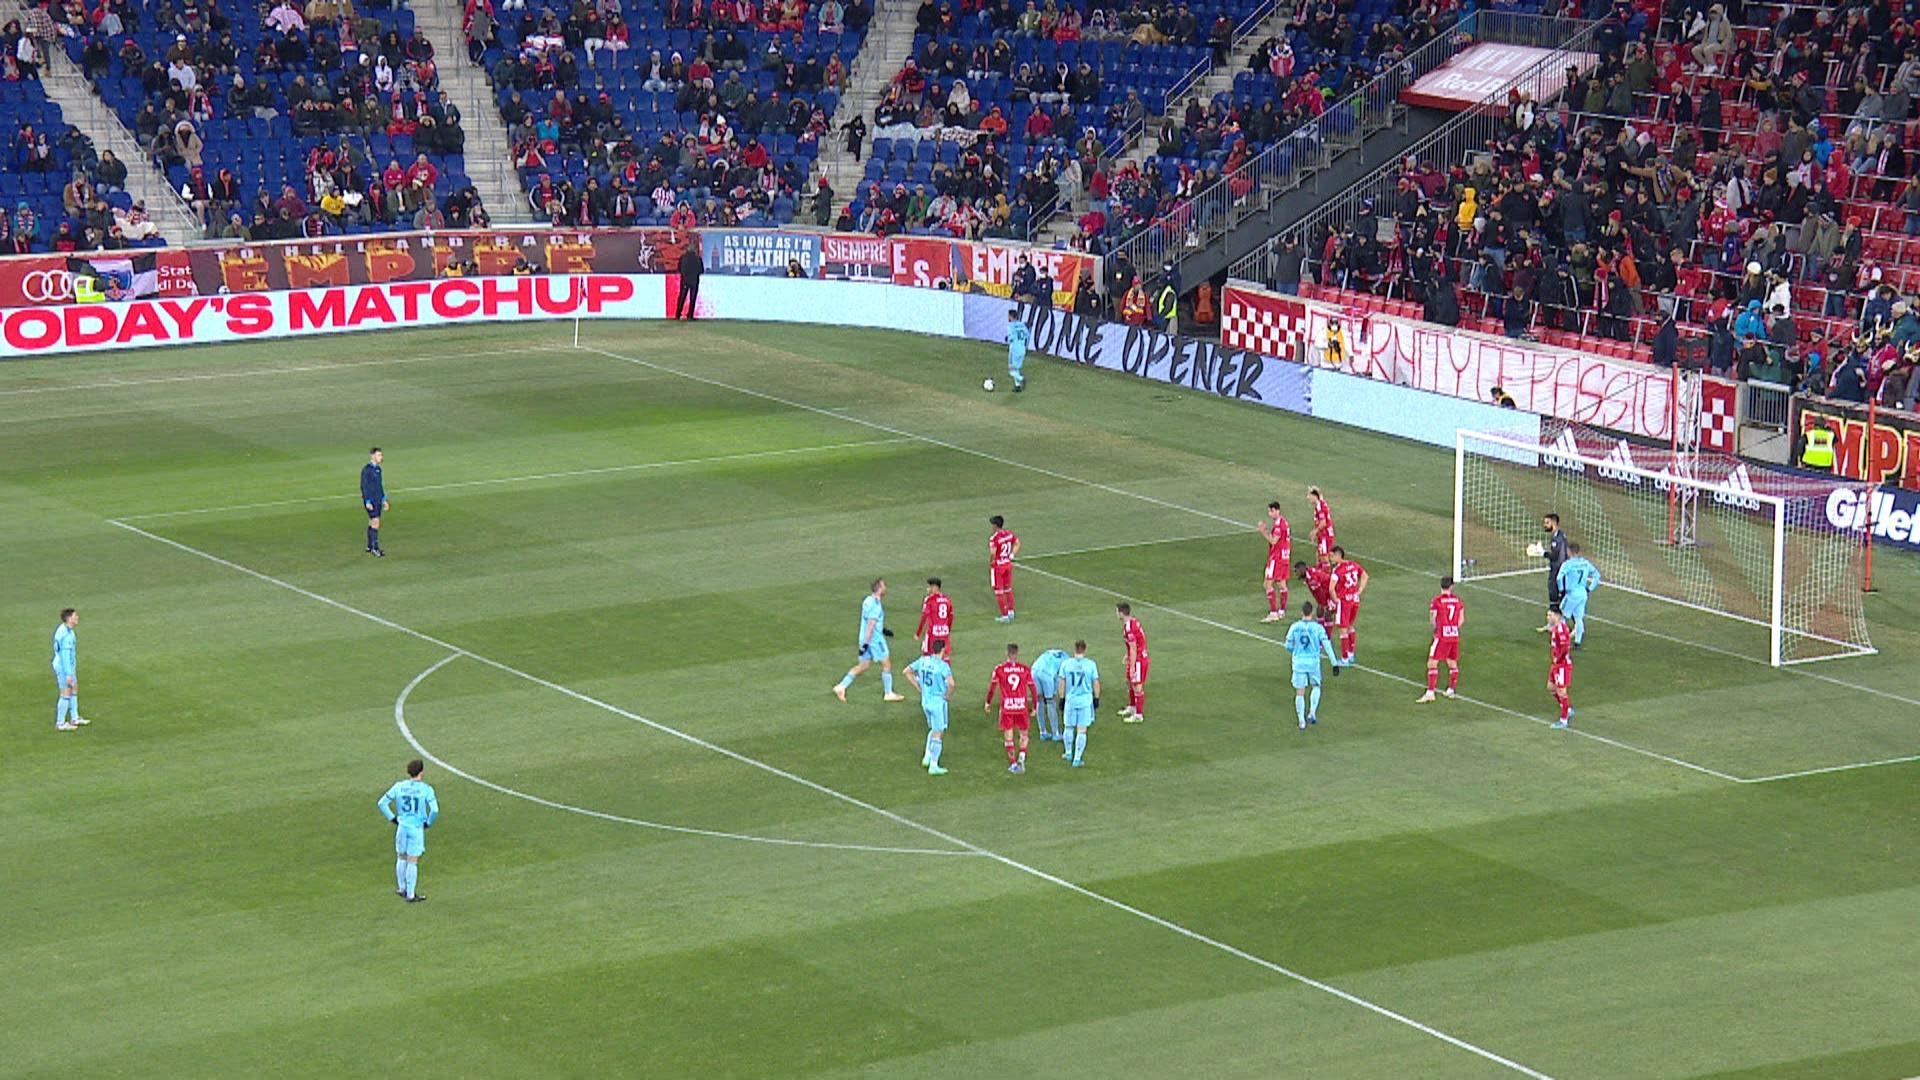football: (982, 378, 996, 392)
